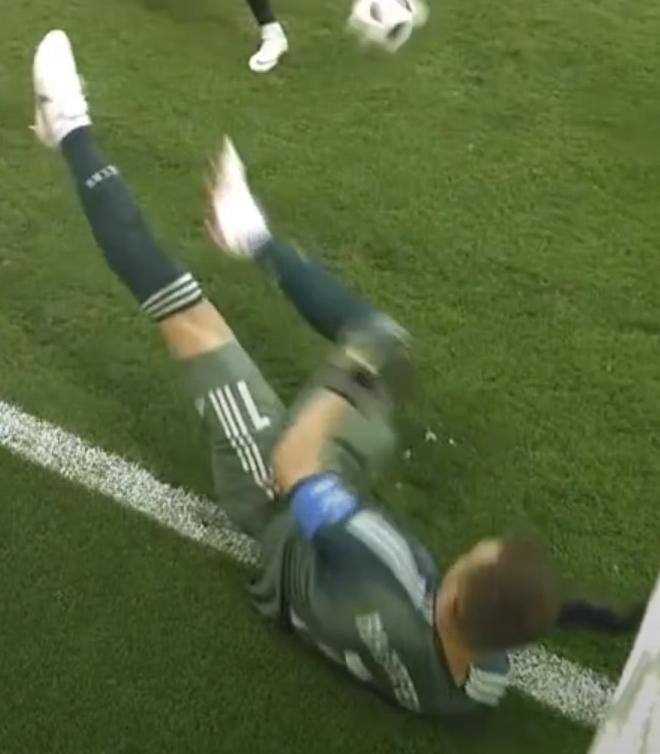ball: (341, 0, 450, 72)
goalkeeper: (0, 24, 600, 754)
